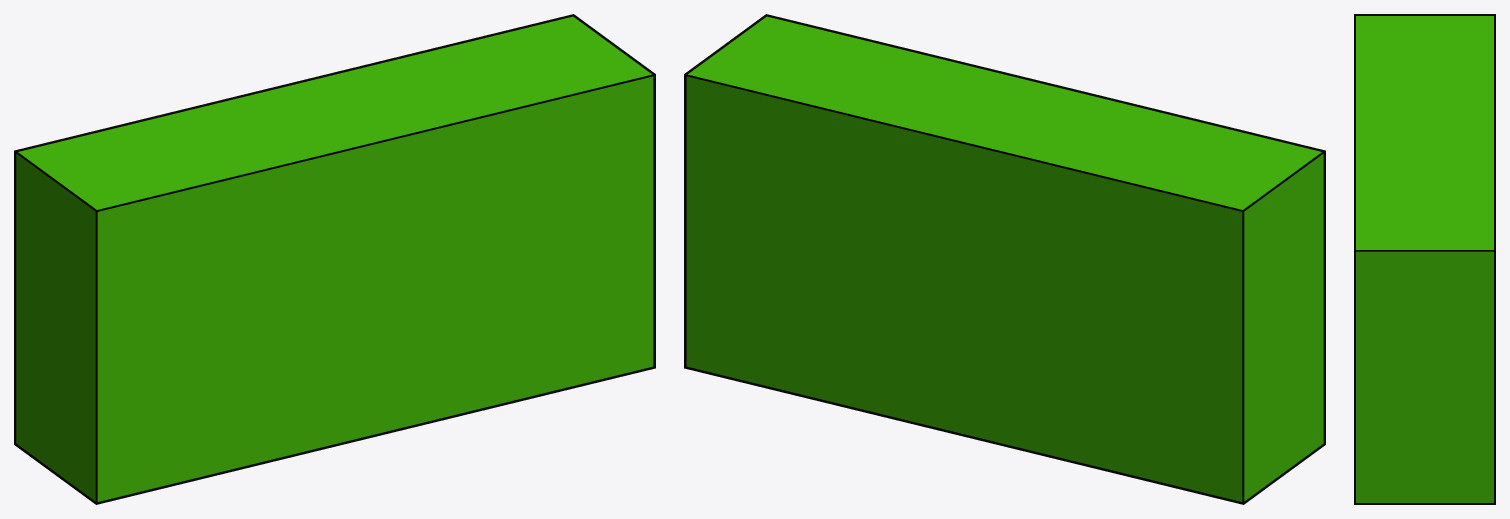
Rendered from cuboid2_green.obj.
3 renders of one model, left to right at view 1: azimuth 30°, elevation 25°; view 2: azimuth 150°, elevation 25°; view 3: azimuth 270°, elevation 25°, orthographic. The views are drawn at different scales.
Visible parts, largest first — view 1: cuboid_2, 立方体; view 2: cuboid_2, 立方体; view 3: cuboid_2, 立方体.
Boxes of the visible parts, left/top/right/bottom form: cuboid_2: left=16, top=16, right=653, bottom=501; 立方体: left=14, top=14, right=655, bottom=504; cuboid_2: left=686, top=16, right=1323, bottom=501; 立方体: left=684, top=14, right=1325, bottom=504; cuboid_2: left=1356, top=16, right=1493, bottom=502; 立方体: left=1354, top=14, right=1495, bottom=504.
Bounding box in the file's own units: 0.1005 × 0.0505 × 0.0255.
